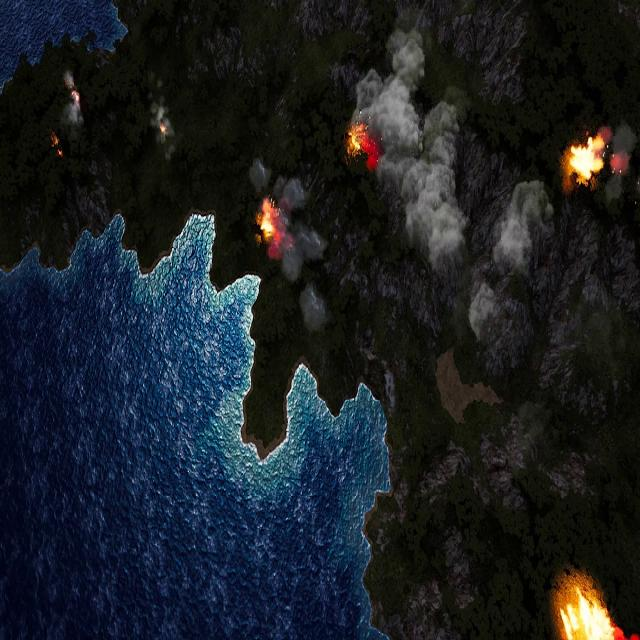fire: (559, 587, 622, 640), (565, 132, 605, 184), (346, 124, 379, 168), (257, 199, 283, 245), (52, 131, 63, 162), (161, 123, 169, 138)
smoke: (348, 9, 551, 340), (249, 157, 331, 335), (606, 122, 638, 205), (60, 67, 88, 139), (151, 88, 176, 163)
